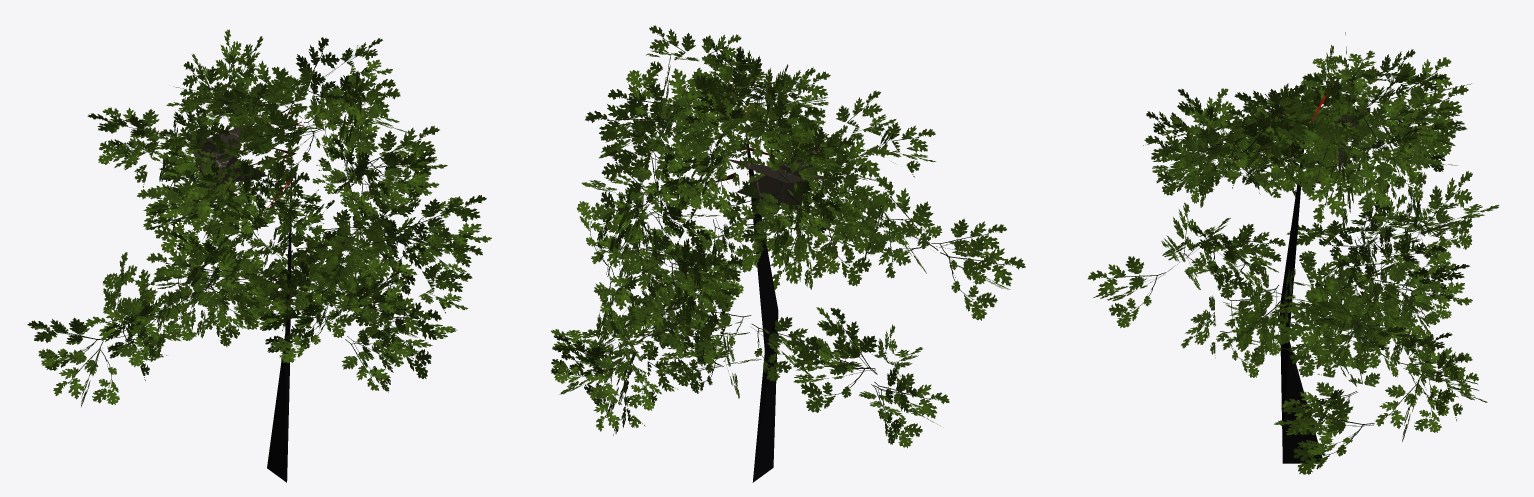
Rendered from maple3 lod4.FBX.
3 views of the same model, side by side, from view 1: azimuth 30°, elevation 25°; view 2: azimuth 150°, elevation 25°; view 3: azimuth 270°, elevation 25° (orthographic). The views are drawn at different scales.
Parts seen in each view (by area): view 1: maple3_LOD4; view 2: maple3_LOD4; view 3: maple3_LOD4.
Part boxes in pixels (<box>): maple3_LOD4: <box>27,29,491,482</box>; maple3_LOD4: <box>551,25,1025,482</box>; maple3_LOD4: <box>1088,32,1499,474</box>.
Bounding box in the file's own units: 113498 × 108880 × 101657.
